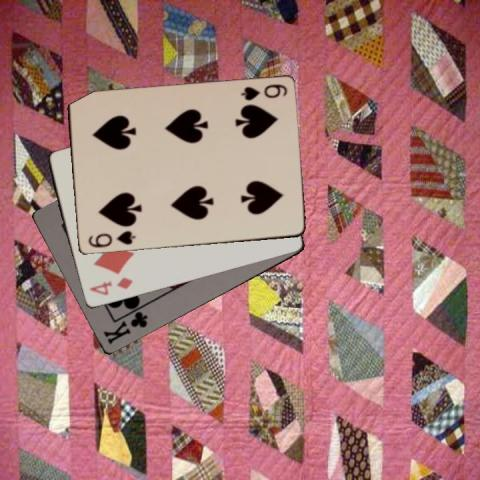4d: (86, 275, 134, 297)
6s: (237, 81, 288, 103), (84, 228, 136, 249)
Kc: (100, 309, 149, 346)
